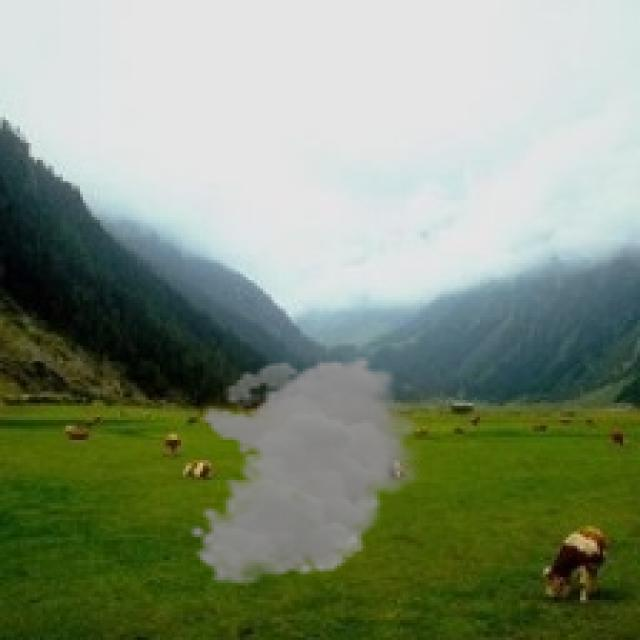smoke: (188, 354, 428, 586)
